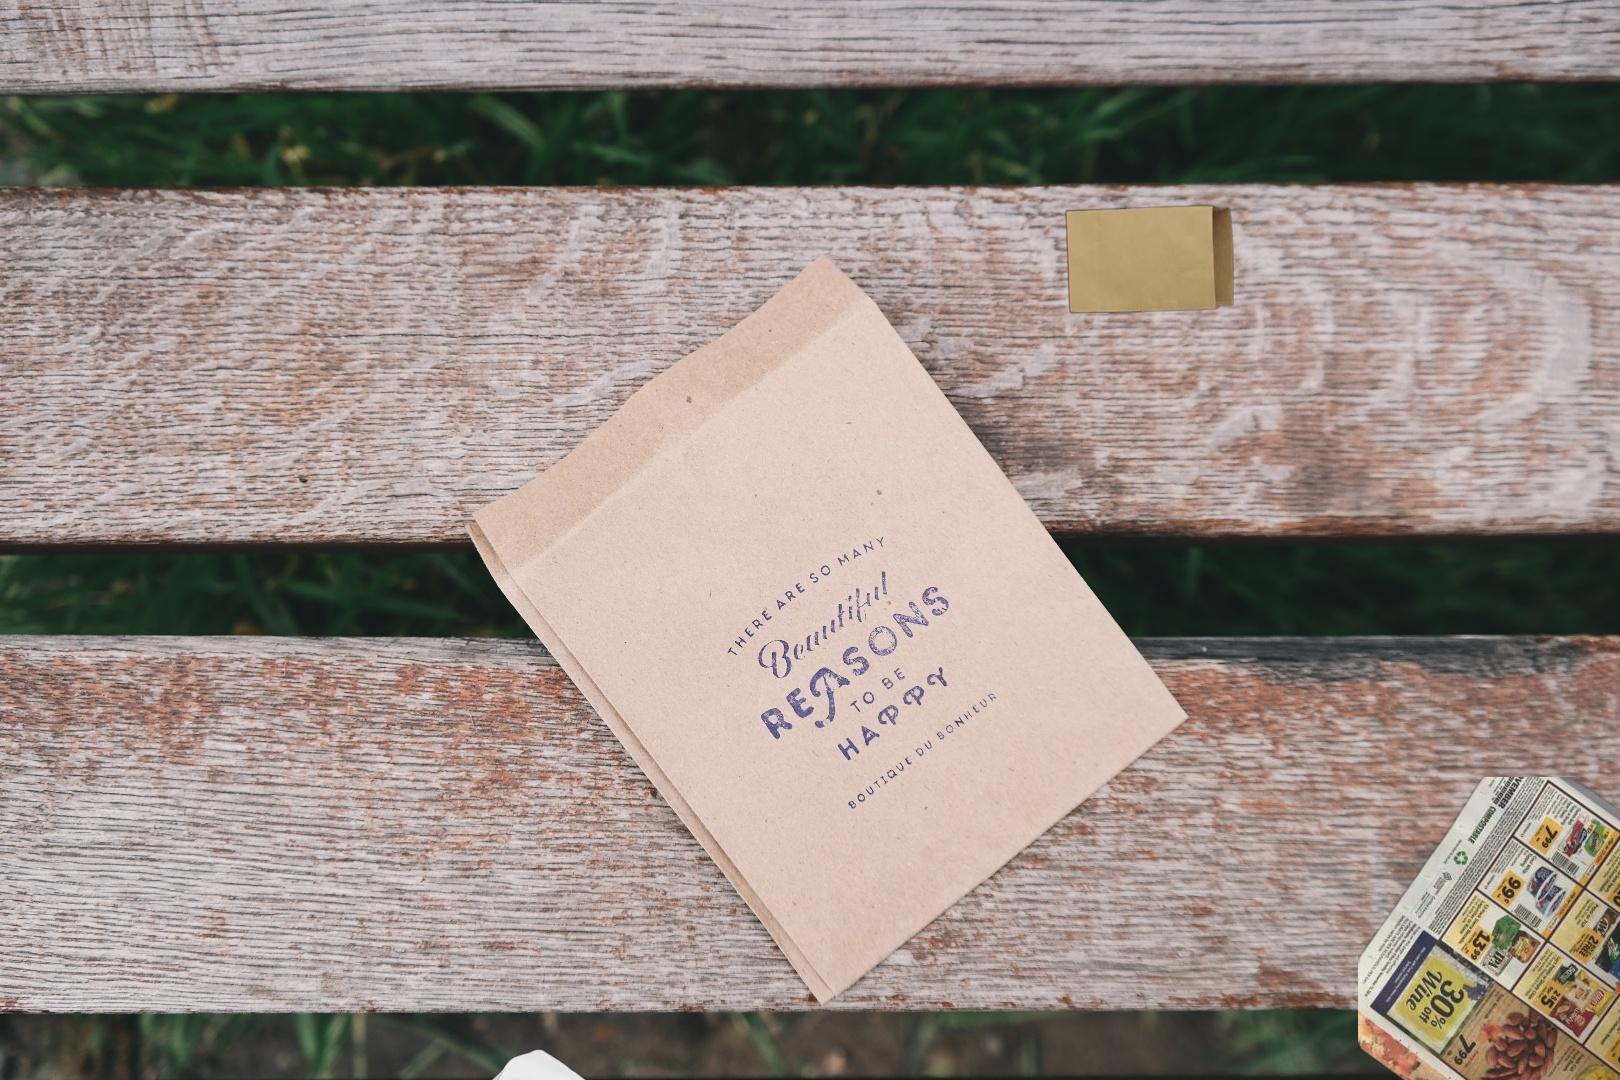paper: (1358, 777, 1620, 1080)
paper-bag: (1061, 202, 1291, 503)
trash: (378, 1047, 634, 1080)
